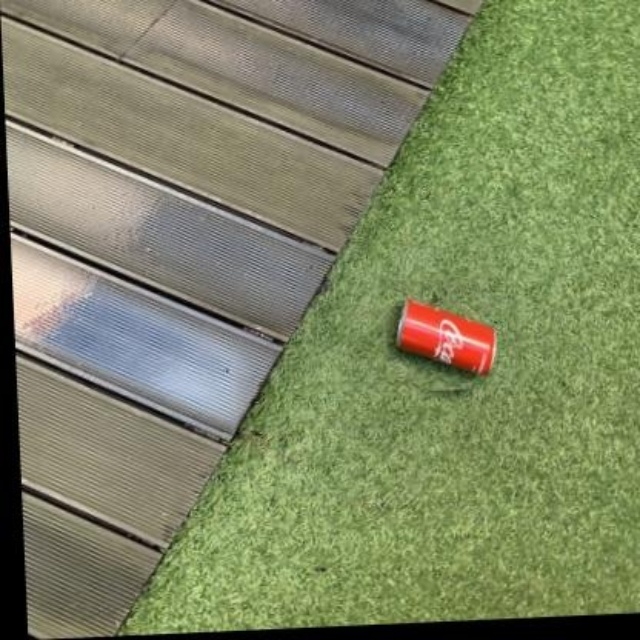trash: (397, 297, 495, 374)
